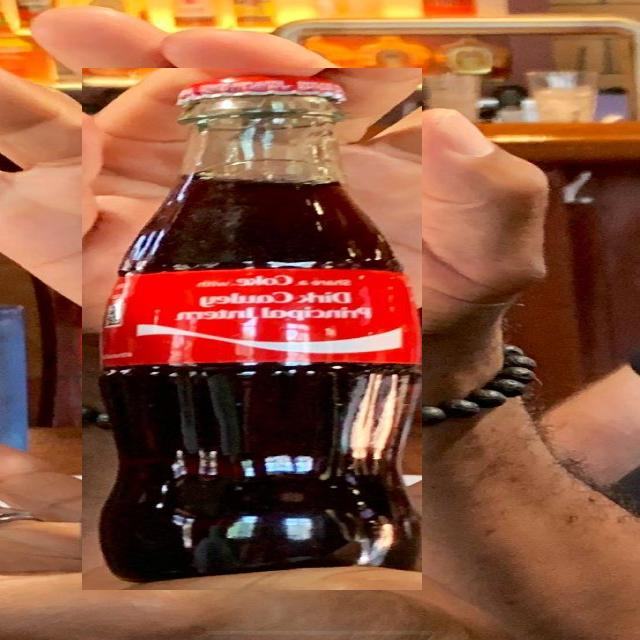coca-cola: (82, 68, 422, 590)
